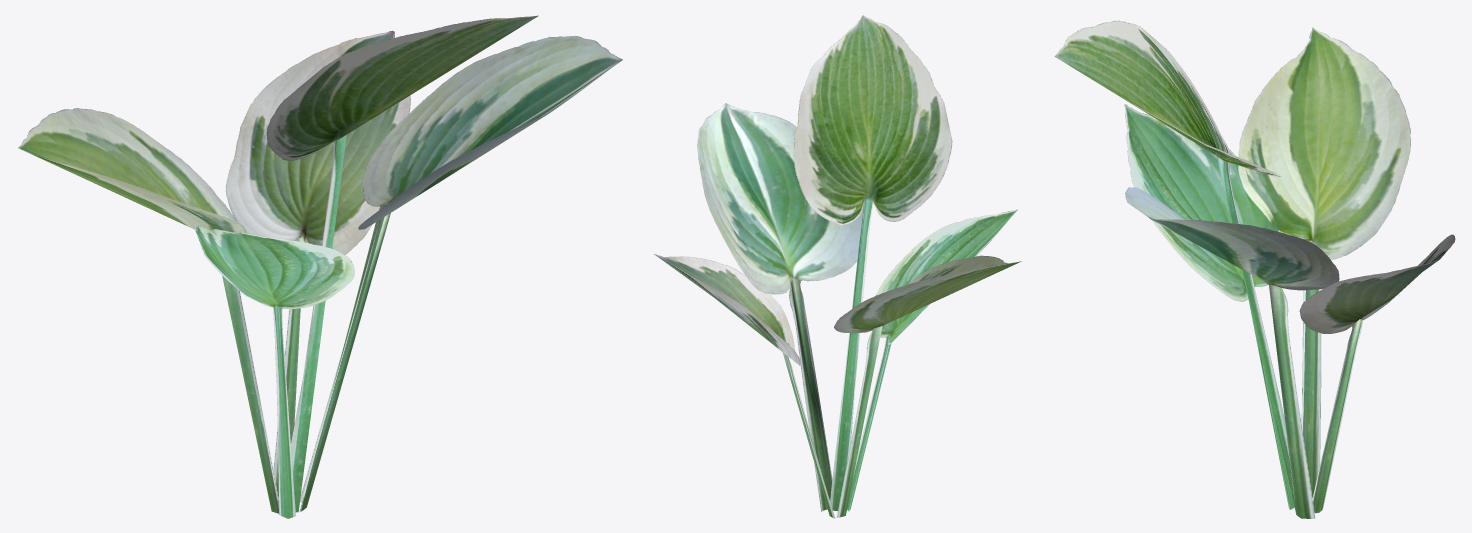
File: plant_small_wg_00D2_wild.fbx
3 renders of one model, left to right at view 1: azimuth 30°, elevation 25°; view 2: azimuth 150°, elevation 25°; view 3: azimuth 270°, elevation 25°, orthographic. The views are drawn at different scales.
Visible parts, largest first — view 1: plant_small_wg_00D2_wild; view 2: plant_small_wg_00D2_wild; view 3: plant_small_wg_00D2_wild.
Part boxes in pixels (x1=…): plant_small_wg_00D2_wild: x1=18, y1=15, x2=622, y2=518; plant_small_wg_00D2_wild: x1=654, y1=15, x2=1021, y2=518; plant_small_wg_00D2_wild: x1=1054, y1=20, x2=1455, y2=518.
Size of the model in its own units: 27.75 by 29.54 by 21.46.
